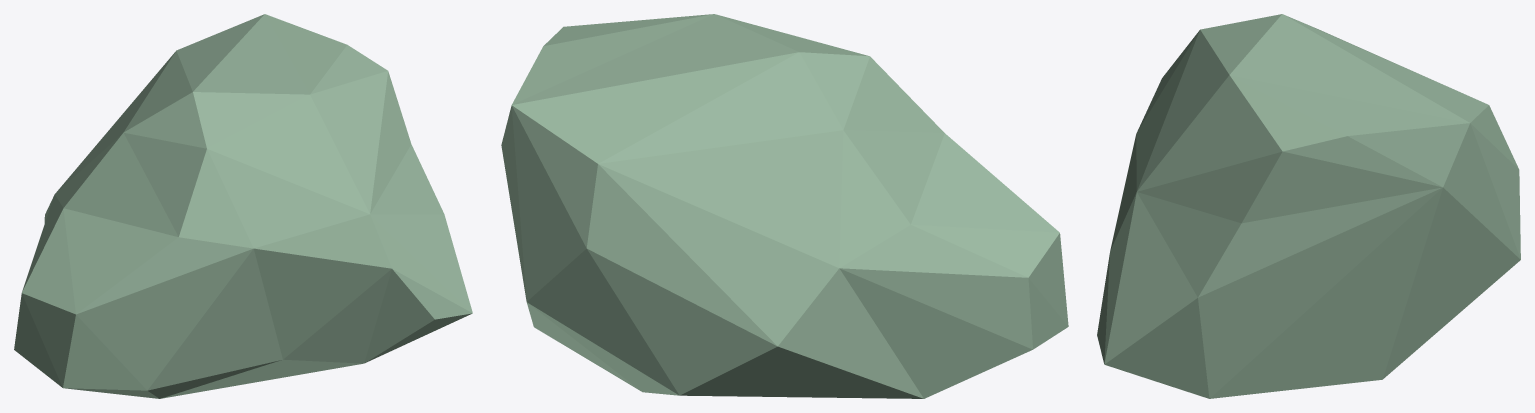
Rendered from Puzzle_stone_1.glb.
3 renders of one model, left to right at view 1: azimuth 30°, elevation 25°; view 2: azimuth 150°, elevation 25°; view 3: azimuth 270°, elevation 25°, orthographic. The views are drawn at different scales.
Parts seen in each view (by area): view 1: Puzzle_stone_01; view 2: Puzzle_stone_01; view 3: Puzzle_stone_01.
Boxes of the visible parts, left/top/right/bottom form: Puzzle_stone_01: left=14, top=14, right=472, bottom=398; Puzzle_stone_01: left=501, top=14, right=1068, bottom=398; Puzzle_stone_01: left=1097, top=14, right=1520, bottom=398.
Size of the model in its own units: 0.0763 by 0.0466 by 0.062.
